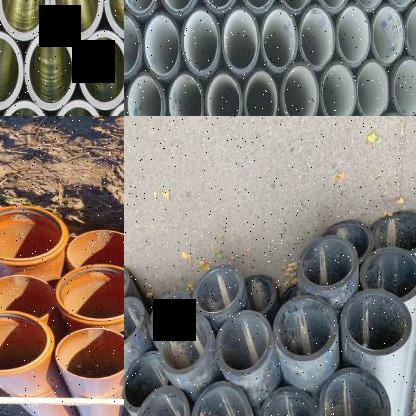pipe: (340, 289, 412, 356), (24, 30, 78, 110), (273, 296, 338, 362), (55, 263, 124, 321), (0, 204, 66, 261), (216, 310, 272, 376), (78, 30, 124, 110), (319, 368, 391, 416), (55, 328, 124, 378), (298, 236, 358, 291), (160, 312, 212, 375), (0, 310, 51, 373), (359, 247, 416, 302), (124, 350, 168, 412), (182, 7, 220, 76), (222, 7, 260, 74), (194, 265, 243, 316), (143, 12, 180, 79), (261, 6, 298, 72), (0, 274, 56, 317), (67, 229, 124, 269), (299, 5, 335, 67), (336, 5, 372, 66), (148, 292, 193, 340), (191, 380, 250, 416), (51, 0, 104, 40), (324, 221, 372, 264), (0, 0, 50, 40), (282, 63, 319, 116), (320, 60, 355, 116), (355, 60, 389, 116), (372, 5, 404, 64), (258, 386, 320, 416), (0, 31, 23, 111), (372, 211, 416, 252), (125, 71, 164, 116), (134, 385, 190, 416), (165, 72, 204, 116), (204, 71, 242, 116), (244, 72, 279, 116), (392, 59, 416, 116), (243, 275, 277, 314), (124, 10, 142, 78), (124, 297, 144, 348), (51, 100, 104, 116), (0, 101, 51, 116), (157, 0, 198, 17), (404, 4, 416, 59), (124, 0, 158, 17), (239, 0, 277, 14), (198, 0, 238, 13), (278, 0, 314, 12), (315, 0, 351, 10), (352, 0, 386, 9), (385, 0, 415, 8)
